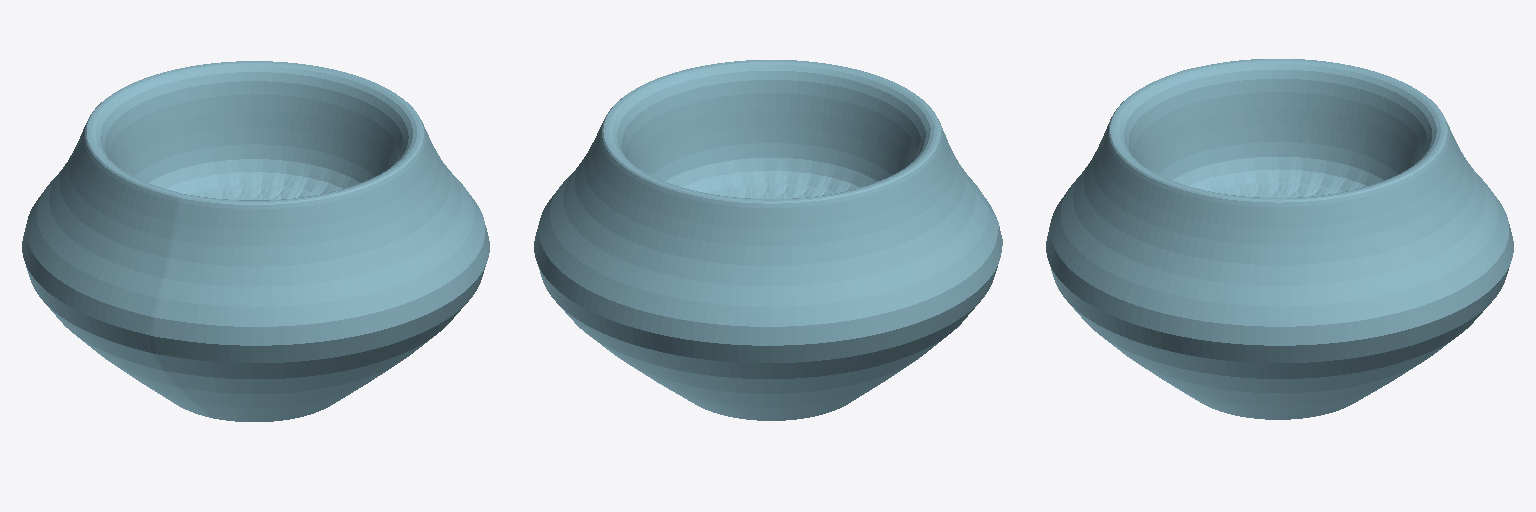
Rendered from Taza_tex.obj.
3 renders of one model, left to right at view 1: azimuth 30°, elevation 25°; view 2: azimuth 150°, elevation 25°; view 3: azimuth 270°, elevation 25°, orthographic.
Parts seen in each view (by area): view 1: Cylinder.042; view 2: Cylinder.042; view 3: Cylinder.042.
Boxes of the visible parts, x1,y1,x2,y2 form: Cylinder.042: [22, 61, 489, 421]; Cylinder.042: [534, 60, 1002, 420]; Cylinder.042: [1046, 59, 1513, 419].
Size of the model in its own units: 2.82 by 1.67 by 2.82.